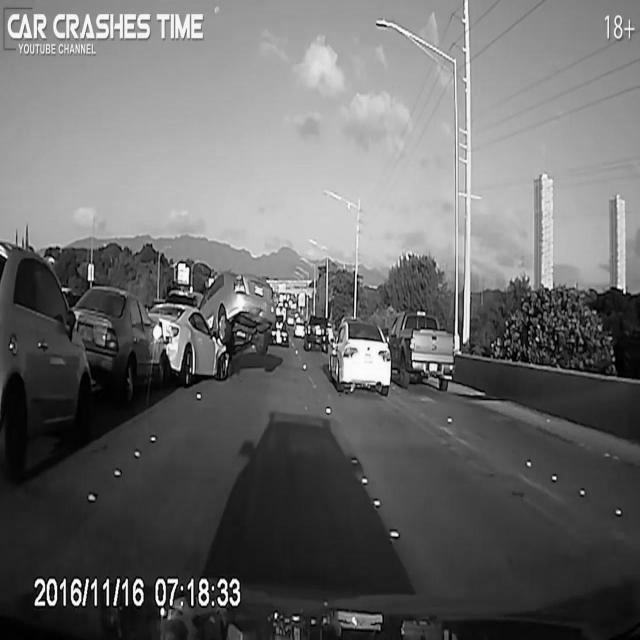accident: (164, 267, 278, 385)
vehicle: (1, 236, 93, 428), (73, 282, 158, 394), (388, 309, 456, 394), (327, 321, 393, 397), (301, 309, 332, 353), (270, 320, 288, 348), (292, 315, 305, 340)
